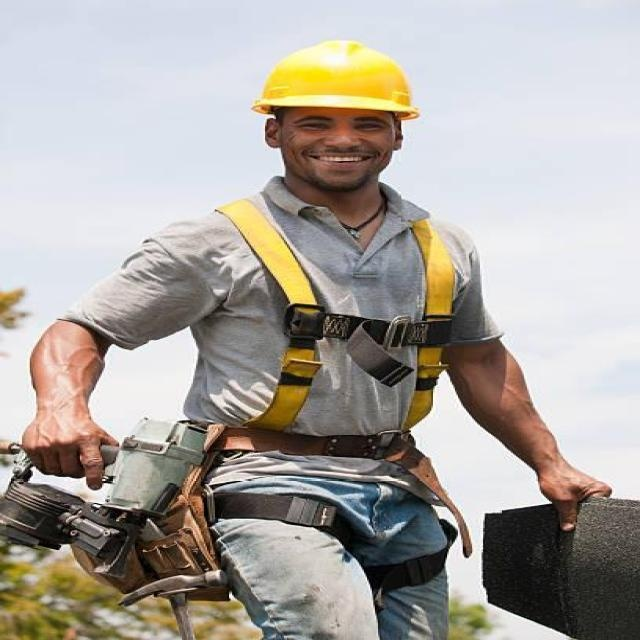Arnes_seguridad: (191, 192, 468, 592)
